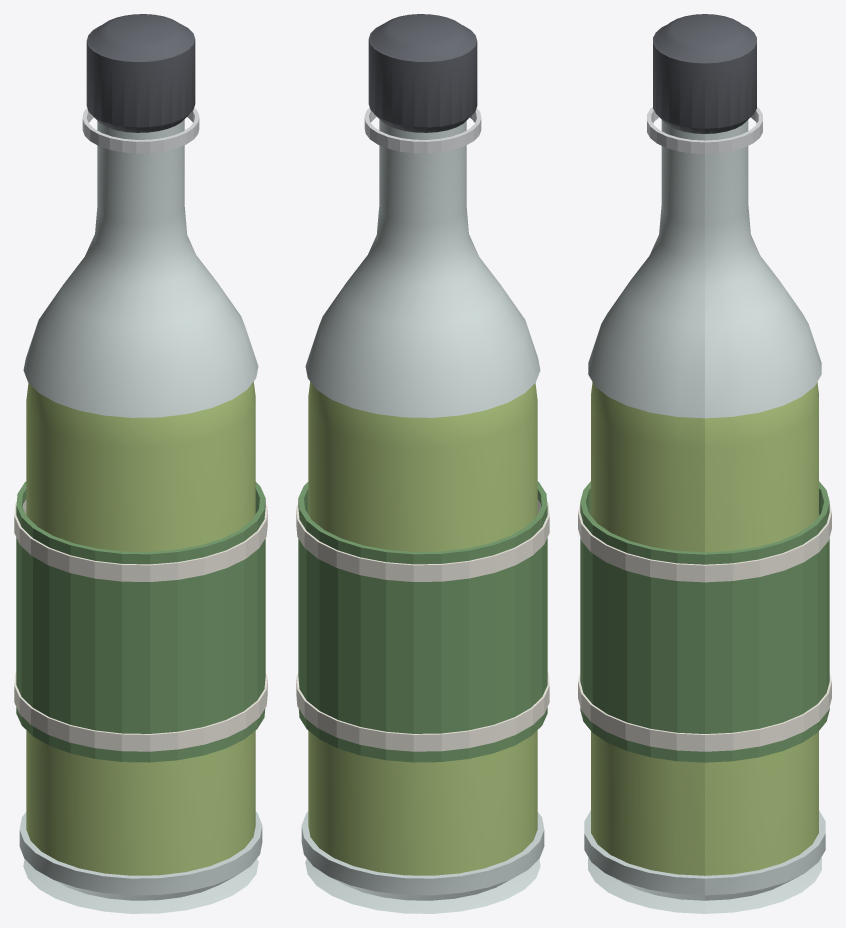
File: fresh-produce-and-groceries-olive-oil-bottle-1dd3beae__24439.glb
The picture shows the model from 3 angles, left to right: view 1: azimuth 30°, elevation 25°; view 2: azimuth 150°, elevation 25°; view 3: azimuth 270°, elevation 25°; orthographic projection.
Parts seen in each view (by area): view 1: olive-oil-bottle; view 2: olive-oil-bottle; view 3: olive-oil-bottle.
Part boxes in pixels (box(x1,y1,x2,y2)): olive-oil-bottle: box(14, 14, 267, 913); olive-oil-bottle: box(296, 14, 549, 913); olive-oil-bottle: box(578, 14, 831, 913).
Size of the model in its own units: 0.0686 by 0.2492 by 0.0686.
